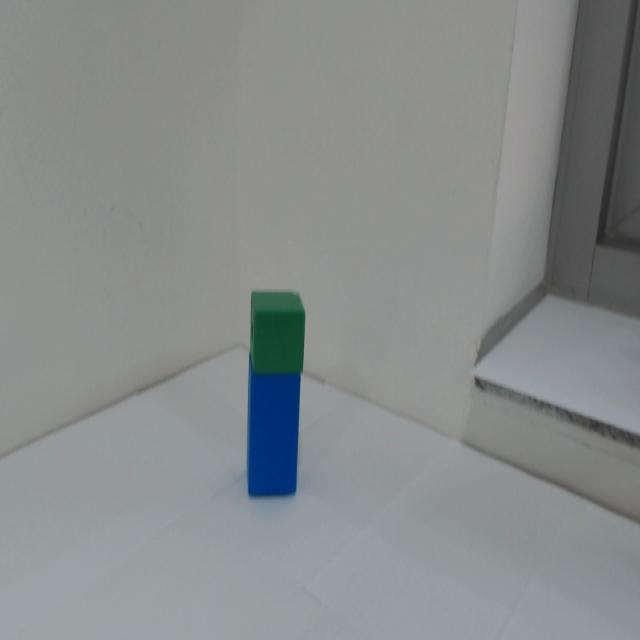cube: (248, 287, 314, 379)
